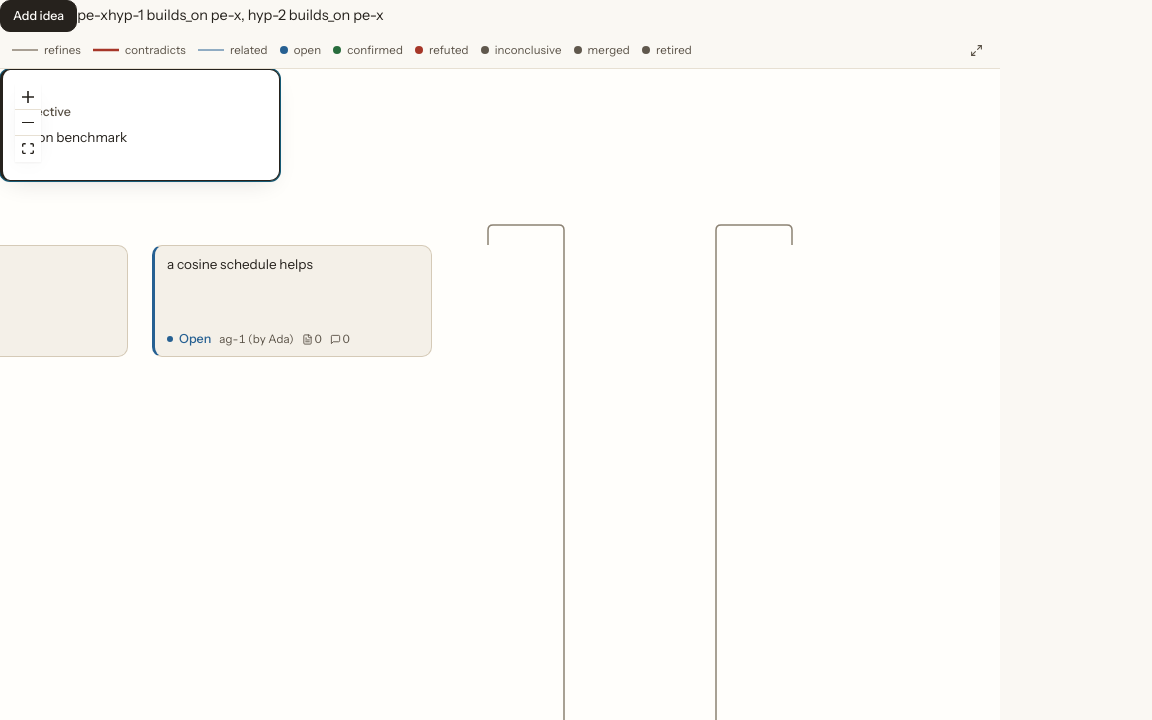
Scenario: on the graph › opens in the whole window, where Escape cancels an idea first and then restores the page
This screenshot has width=1152, height=720.
Step 1. Click the button named "Open in the whole window" → {"x": 976, "y": 50}, box [964,38,988,62]
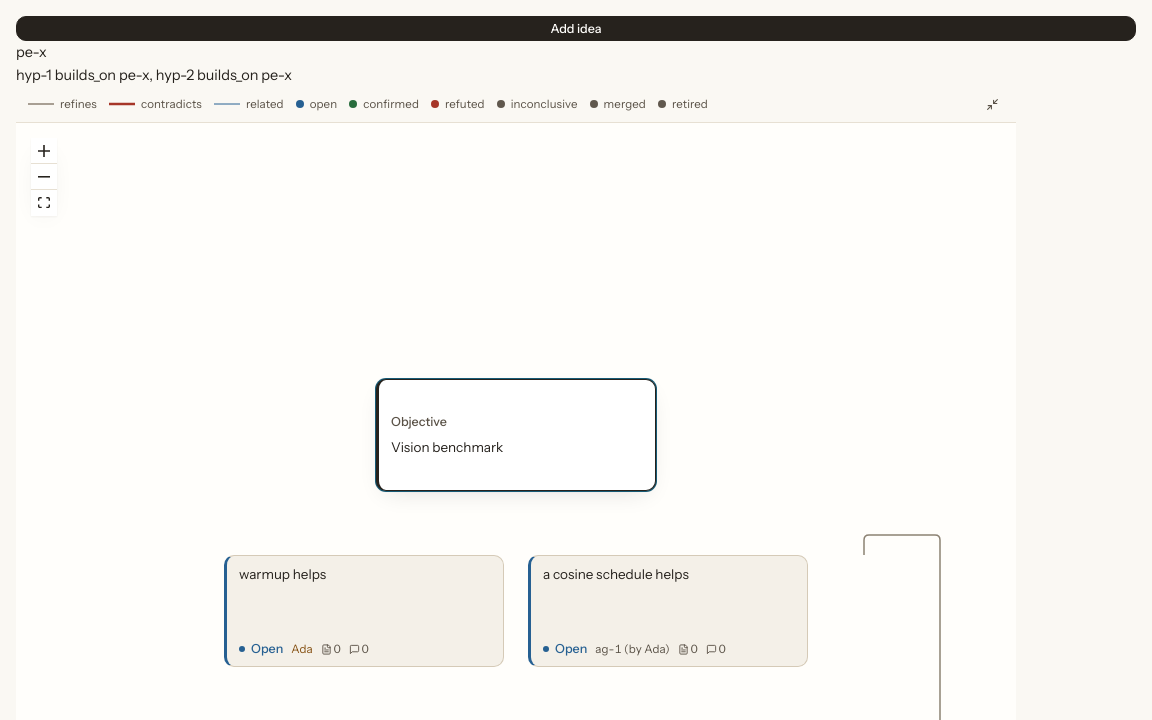
Step 2. Click the button "Add idea" → {"x": 576, "y": 29}, box [16,16,1136,41]
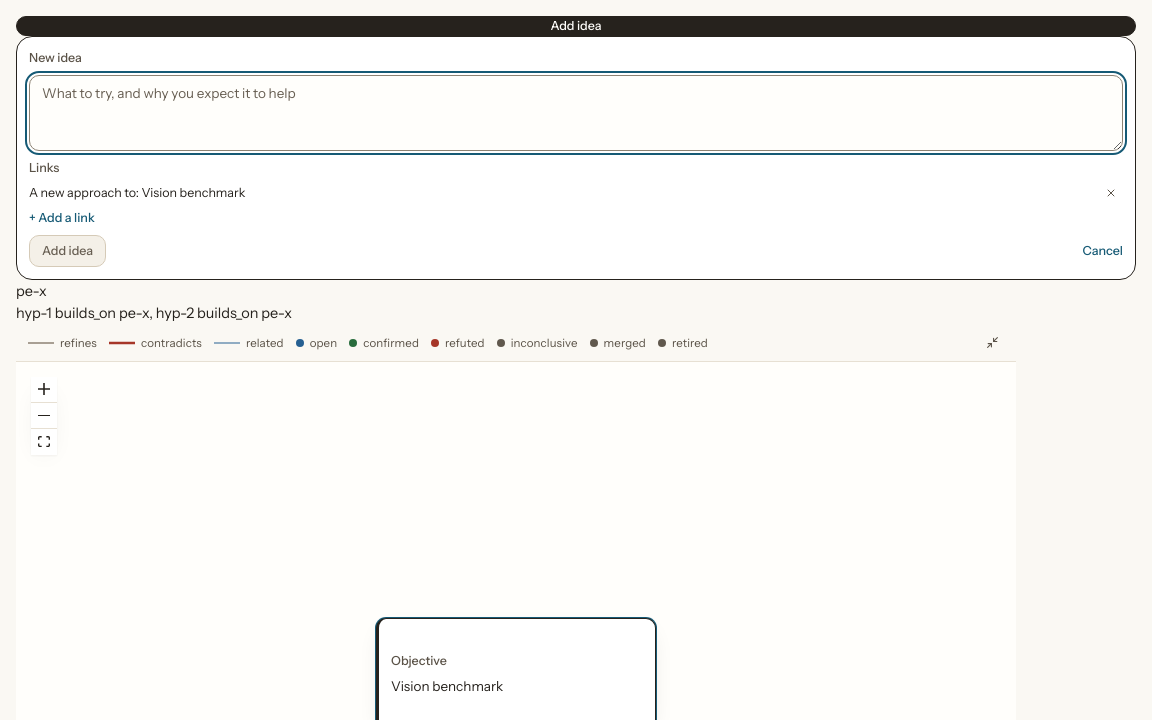
Step 3. Press Escape
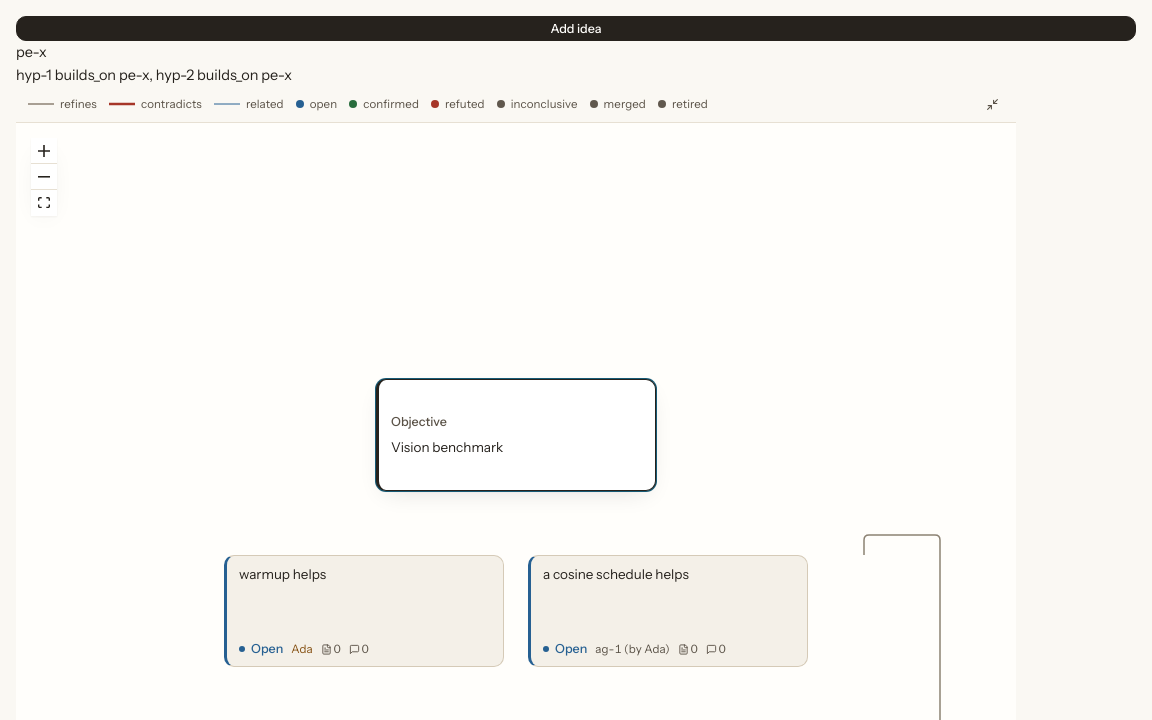
Expected: the text "New idea" is gone
Step 4. Press Escape
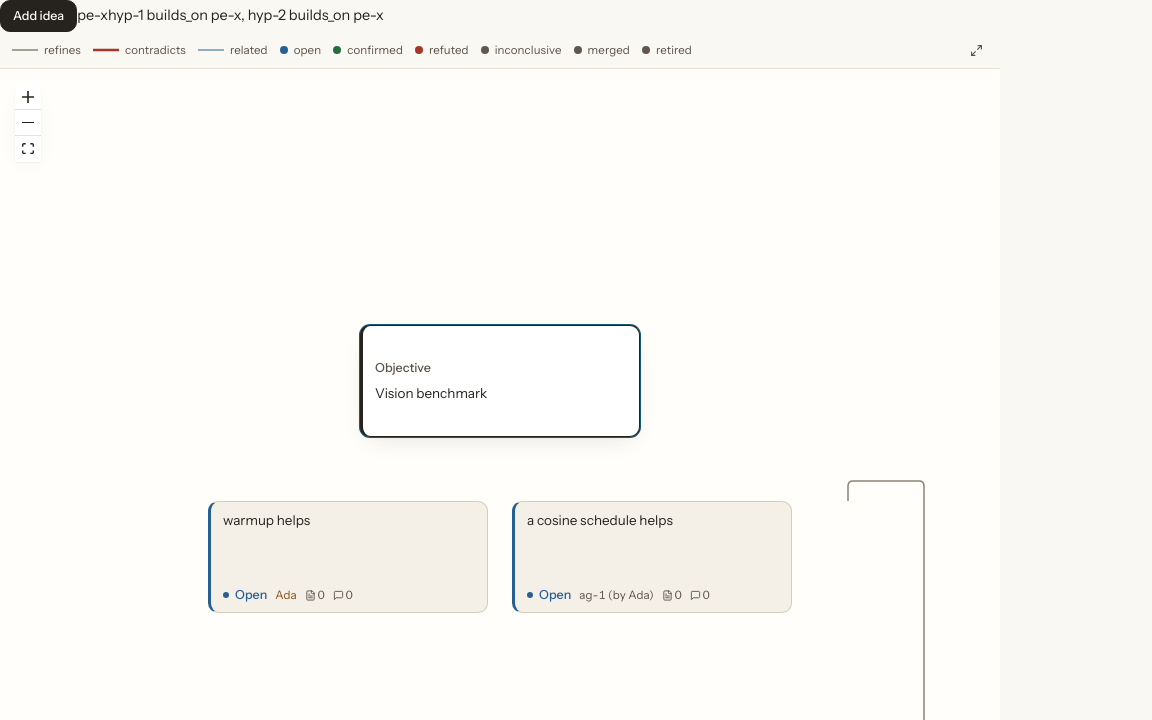
Expected: the button named "Open in the whole window" is shown, [964,38,988,62]
